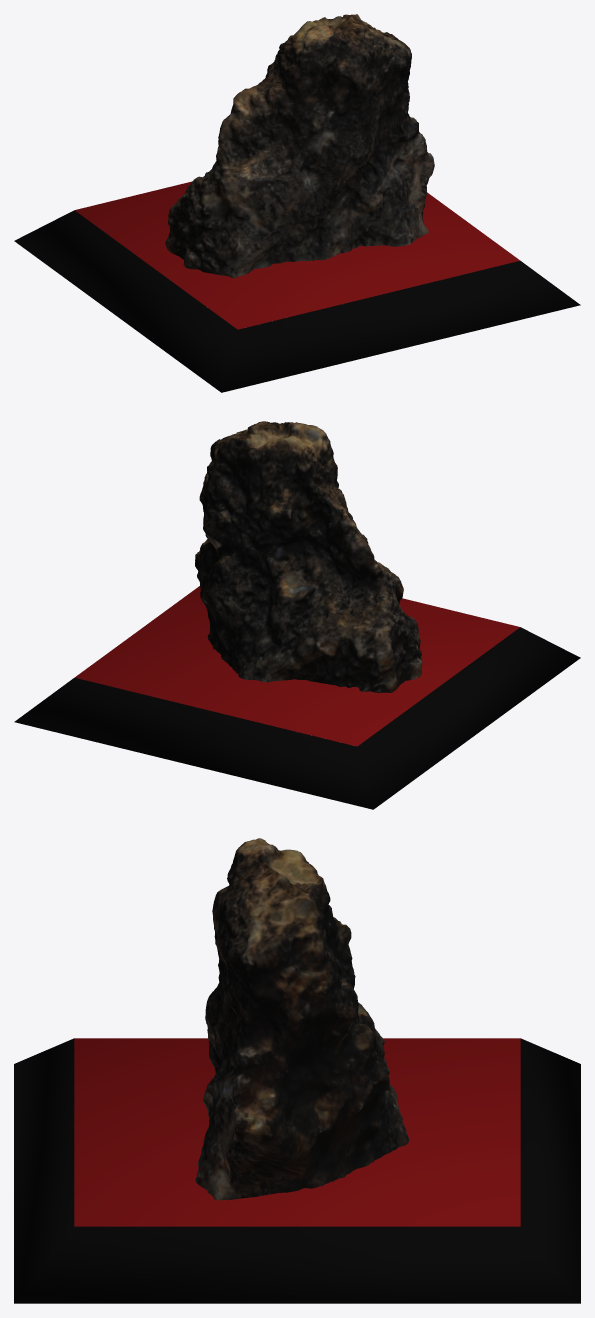
Rendered from esquisto_biotita.glb.
The picture shows the model from 3 angles, top to bottom: view 1: azimuth 30°, elevation 25°; view 2: azimuth 150°, elevation 25°; view 3: azimuth 270°, elevation 25°; orthographic projection. The views are drawn at different scales.
Parts seen in each view (by area): view 1: mesh1; view 2: mesh1; view 3: mesh1.
Boxes of the visible parts, x1=… form: mesh1: x1=14, y1=14, x2=580, y2=392; mesh1: x1=14, y1=421, x2=580, y2=809; mesh1: x1=14, y1=838, x2=580, y2=1303.
Size of the model in its own units: 10 by 6.74 by 10.
Materials: 4 (2 with a texture image).
